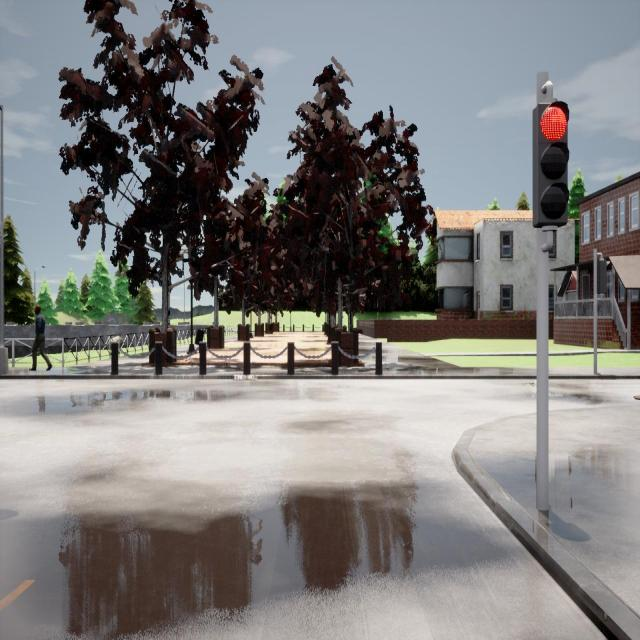Pedestrian: (30, 304, 52, 370)
traffic_light: (533, 101, 570, 227), (597, 261, 610, 294)
